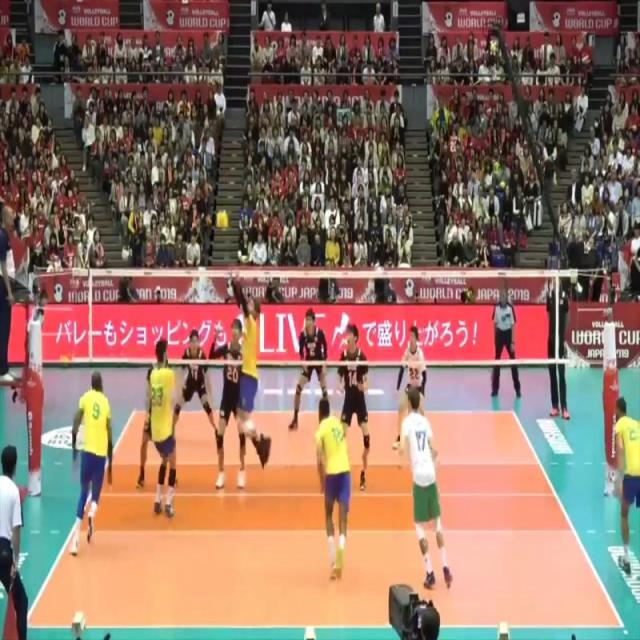volleyball: (200, 78, 217, 104)
